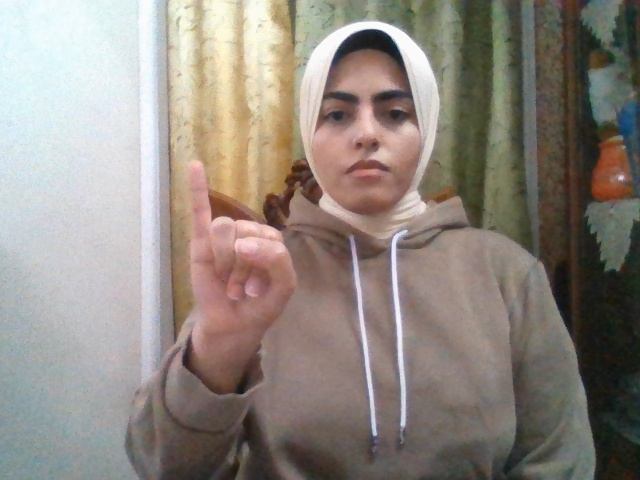I: (189, 160, 296, 341)
